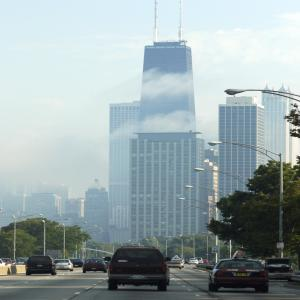Vehicle-registration-plate: (237, 274, 247, 279)
